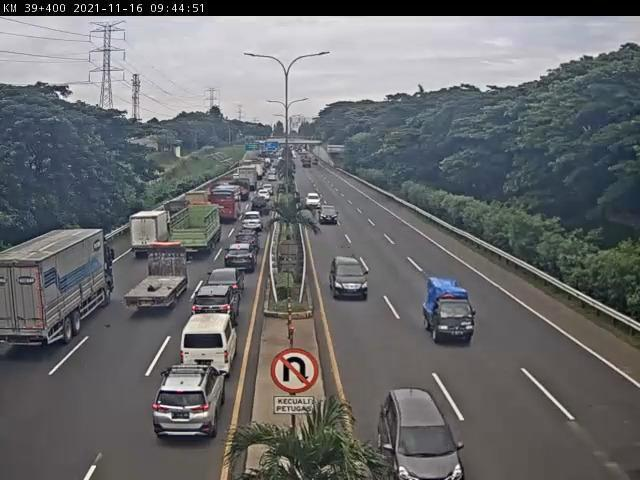bus: (209, 187, 246, 224)
car: (373, 388, 467, 480), (151, 368, 223, 440), (421, 278, 475, 341), (184, 315, 239, 376), (189, 288, 237, 336), (329, 256, 369, 300), (207, 268, 248, 299), (224, 247, 256, 276), (234, 232, 261, 252), (237, 217, 262, 238), (320, 208, 338, 227)
truck: (3, 235, 113, 353), (126, 248, 189, 312), (168, 205, 220, 261), (128, 213, 172, 262), (181, 187, 210, 219)
